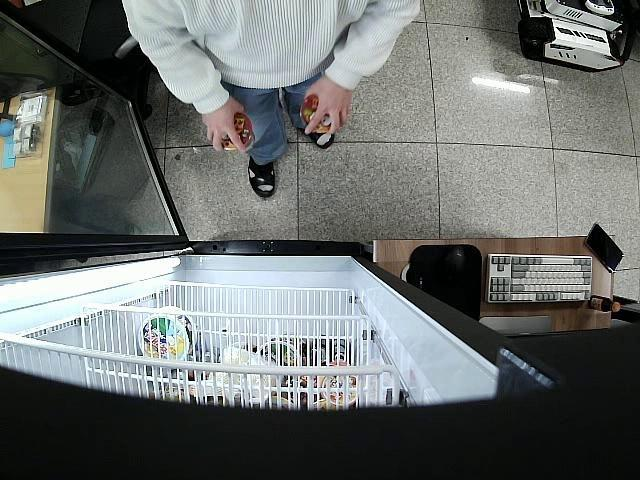06_nuguri_S: (218, 110, 256, 154), (300, 92, 336, 134)
